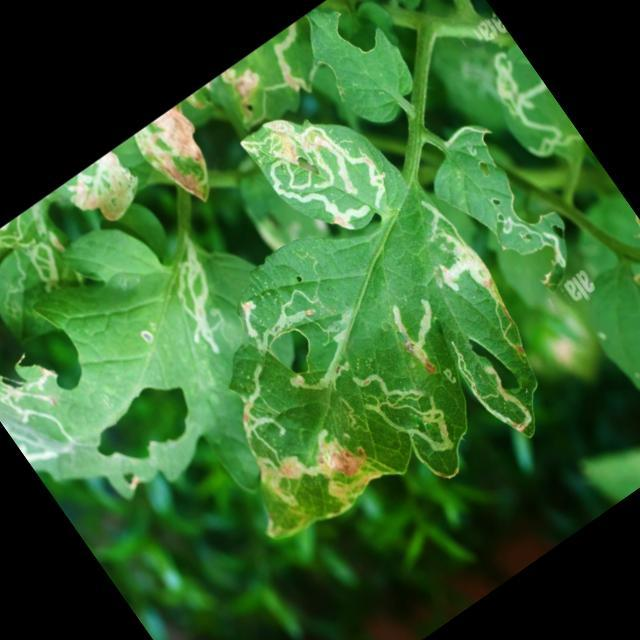Tomato target spot leaf: (71, 61, 594, 604), (0, 159, 369, 592), (0, 137, 199, 389), (410, 107, 592, 316), (177, 16, 350, 171), (464, 32, 588, 176), (562, 238, 640, 457), (128, 99, 239, 219)
